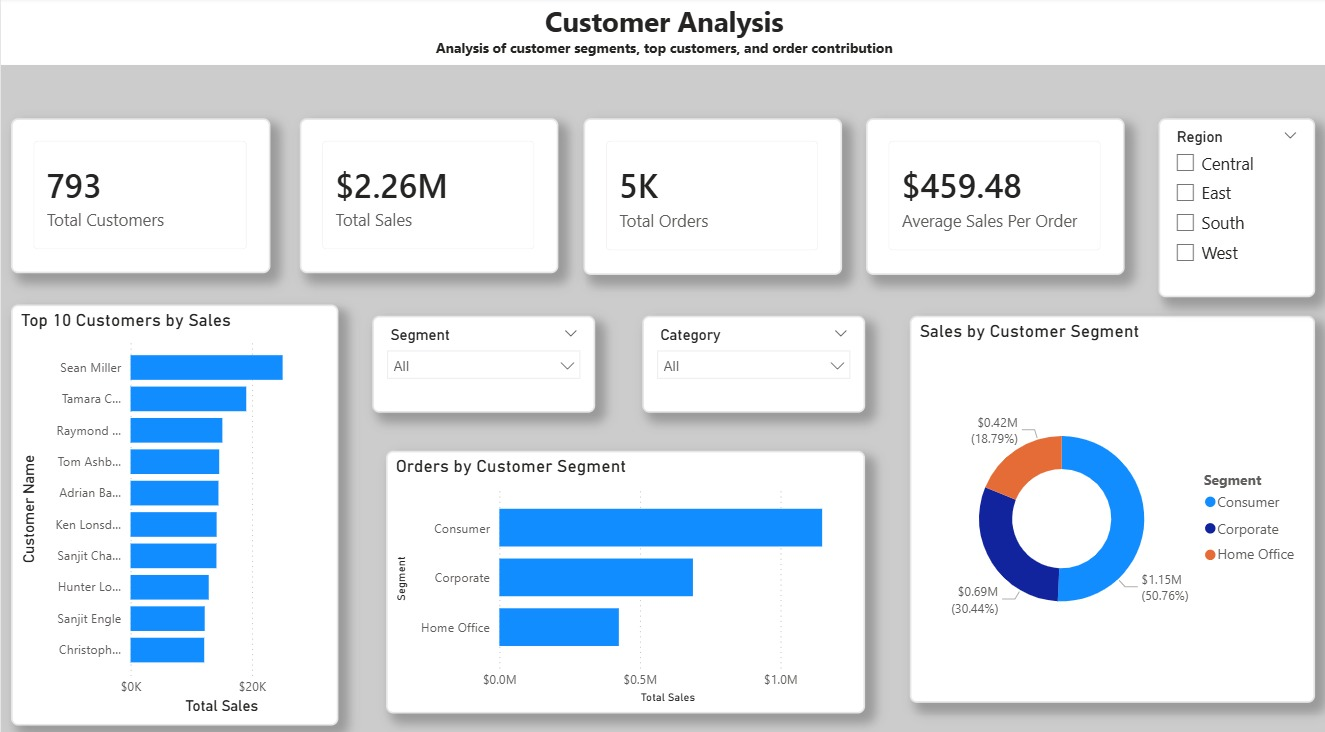

The dashboard page shown, as its layout file describes it:
{"tool":"powerbi","page":{"name":"Customer Analysis","canvas":[1280,720],"ordinal":3},"visuals":[{"type":"textbox","box":[0,0,1280.3,65.9],"z":0},{"type":"cardVisual","fields":{"Data":["Orders.Total Customers"]},"box":[9.6,116.6,250,149.6],"z":1000},{"type":"cardVisual","fields":{"Data":["Orders.Total Sales"]},"box":[288.2,116.6,249.7,149.6],"z":2000},{"type":"cardVisual","fields":{"Data":["Orders.Total Orders"]},"box":[562.6,116.6,249.7,150.9],"z":3000},{"type":"cardVisual","fields":{"Data":["Orders.Average Sales Per Order"]},"box":[834.3,116.6,249.7,150.9],"z":4000},{"type":"donutChart","title":"Sales by Customer Segment","fields":{"Category":["Orders.Segment"],"Y":["Orders.Total Sales"]},"box":[876.8,307.4,391.1,373.2],"z":5000},{"type":"clusteredBarChart","title":"Top 10 Customers by Sales","fields":{"Category":["Orders.Customer Name"],"Y":["Orders.Total Sales"]},"box":[9.6,296.4,315.6,406.2],"z":6000},{"type":"clusteredBarChart","title":"Orders by Customer Segment","fields":{"Category":["Orders.Segment"],"Y":["Orders.Total Sales"]},"box":[371.9,437.7,462.4,253.9],"z":7000},{"type":"slicer","fields":{"Values":["Orders.Category"]},"box":[618.9,307.4,215.4,93.3],"z":8000},{"type":"slicer","fields":{"Values":["Orders.Segment"]},"box":[358.1,307.4,215.4,93.3],"z":9000},{"type":"slicer","fields":{"Values":["Orders.Region"]},"box":[1117,116.6,150.9,172.9],"z":10000}]}

Visuals, with their boxes in screenshot pixels (x1, y1, x2, y2), scaled from the page's 1280x720 canvas onto the 1325x732 screenshot:
textbox: BBox(0, 0, 1324, 67)
cardVisual - Orders.Total Customers: BBox(10, 119, 269, 271)
cardVisual - Orders.Total Sales: BBox(298, 119, 557, 271)
cardVisual - Orders.Total Orders: BBox(582, 119, 841, 272)
cardVisual - Orders.Average Sales Per Order: BBox(864, 119, 1122, 272)
"Sales by Customer Segment" donutChart: BBox(908, 313, 1312, 692)
"Top 10 Customers by Sales" clusteredBarChart: BBox(10, 301, 337, 714)
"Orders by Customer Segment" clusteredBarChart: BBox(385, 445, 864, 703)
slicer - Orders.Category: BBox(641, 313, 864, 407)
slicer - Orders.Segment: BBox(371, 313, 594, 407)
slicer - Orders.Region: BBox(1156, 119, 1312, 294)
